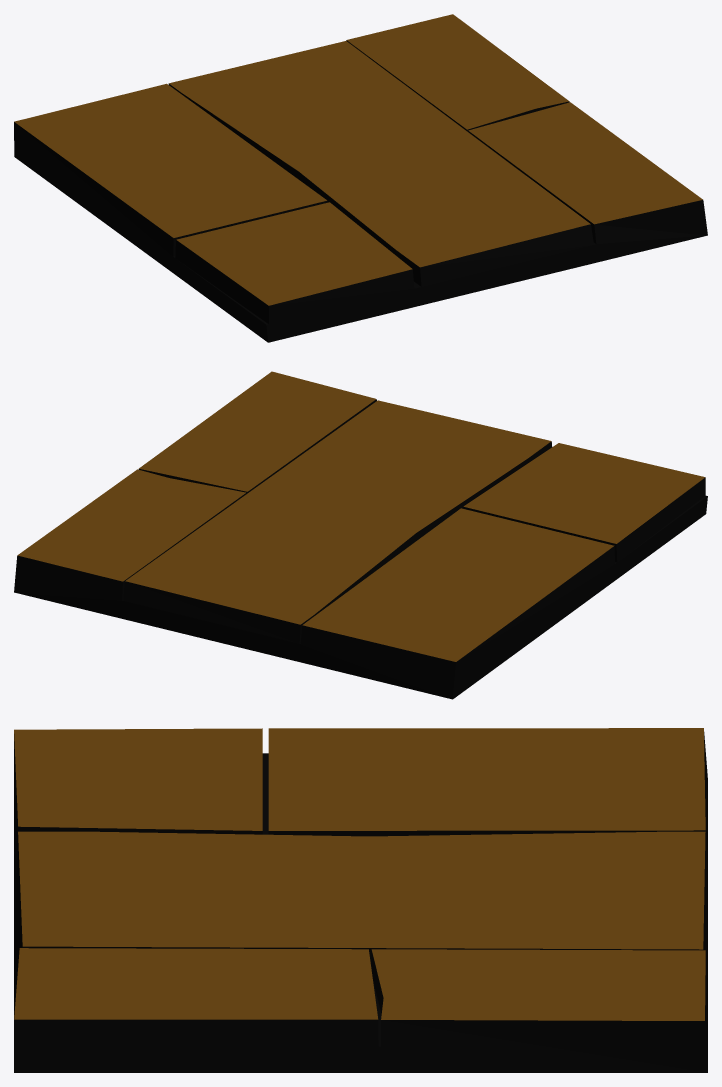
Rendered from Tile_pleine (3).fbx.
3 renders of one model, top to bottom at view 1: azimuth 30°, elevation 25°; view 2: azimuth 150°, elevation 25°; view 3: azimuth 270°, elevation 25°, orthographic. The views are drawn at different scales.
Visible parts, largest first — view 1: Tile pleine1; view 2: Tile pleine1; view 3: Tile pleine1.
Boxes of the visible parts, x1,y1,x2,y2 form: Tile pleine1: [14, 14, 707, 342]; Tile pleine1: [14, 371, 707, 699]; Tile pleine1: [14, 728, 707, 1072].
Bounding box in the file's own units: 50.21 × 50 × 4.
